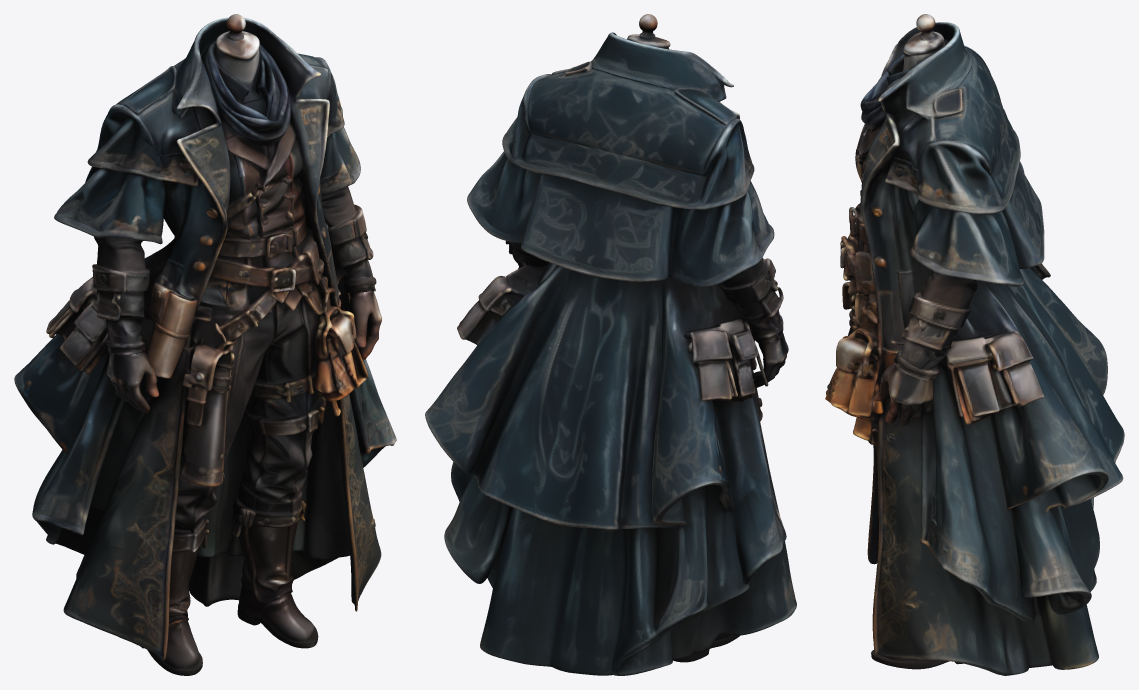
File: outfit-3.glb
The picture shows the model from 3 angles, left to right: view 1: azimuth 30°, elevation 25°; view 2: azimuth 150°, elevation 25°; view 3: azimuth 270°, elevation 25°; orthographic projection. The views are drawn at different scales.
Parts seen in each view (by area): view 1: model; view 2: model; view 3: model.
Boxes of the visible parts, x1=… form: model: x1=14, y1=14, x2=396, y2=675; model: x1=425, y1=14, x2=796, y2=675; model: x1=825, y1=14, x2=1124, y2=675.
Size of the model in its own units: 1.1 by 1.9 by 0.8277.
Materials: 1 (1 with a texture image).
